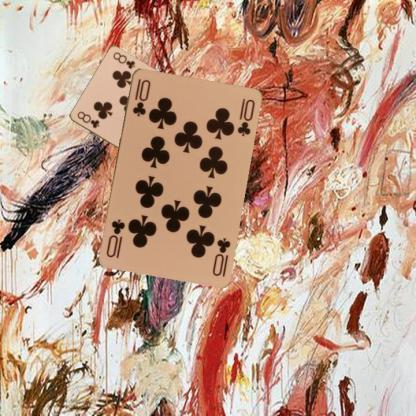10c: (209, 235, 232, 278), (130, 76, 152, 118)
8c: (74, 108, 100, 130)
